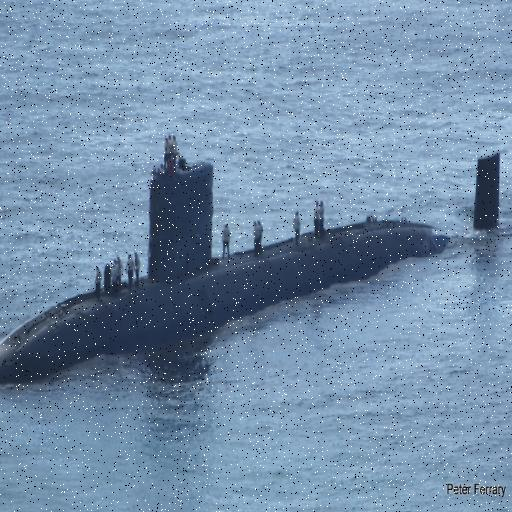submarine: (1, 131, 512, 389)
